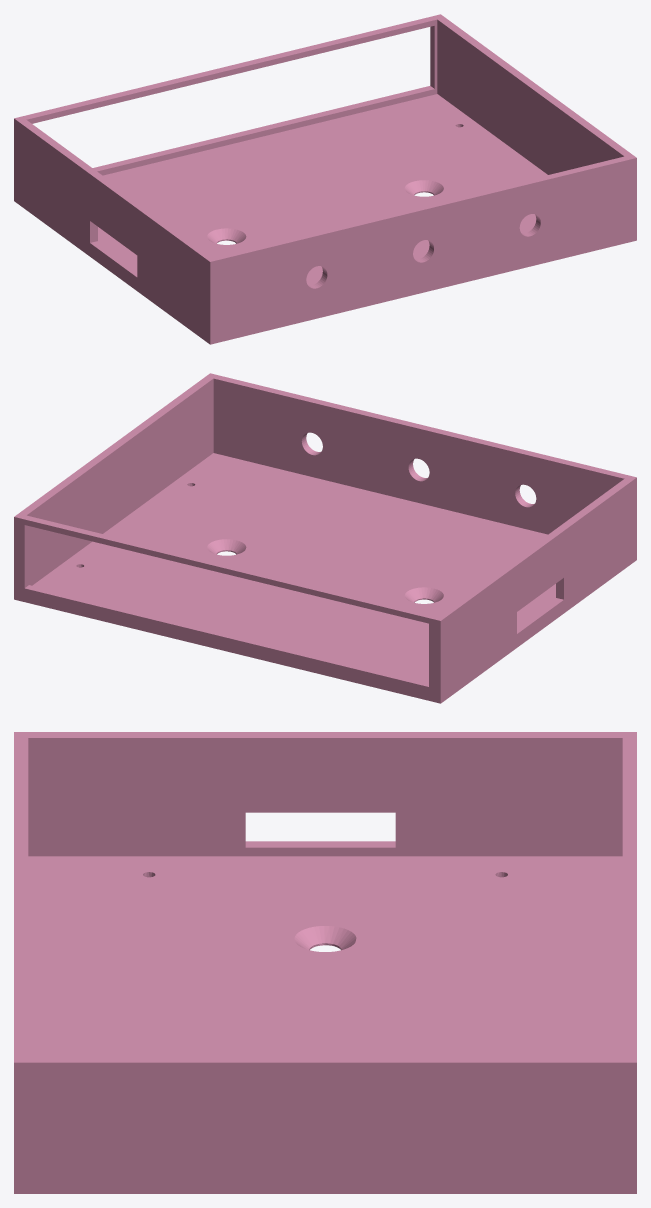
The model's file is Official OwlBox Bottom Standard Case Rev. 1.glb.
The picture shows the model from 3 angles, top to bottom: view 1: azimuth 30°, elevation 25°; view 2: azimuth 150°, elevation 25°; view 3: azimuth 270°, elevation 25°; orthographic projection. The views are drawn at different scales.
Parts seen in each view (by area): view 1: Mesh_Mesh_head_geo.001_lambert2SG.001; view 2: Mesh_Mesh_head_geo.001_lambert2SG.001; view 3: Mesh_Mesh_head_geo.001_lambert2SG.001.
Boxes of the visible parts, box(x1,y1,x2,y2) form: Mesh_Mesh_head_geo.001_lambert2SG.001: box(14, 14, 636, 344); Mesh_Mesh_head_geo.001_lambert2SG.001: box(14, 373, 636, 703); Mesh_Mesh_head_geo.001_lambert2SG.001: box(14, 732, 636, 1193).
Size of the model in its own units: 162 by 30 by 129.
